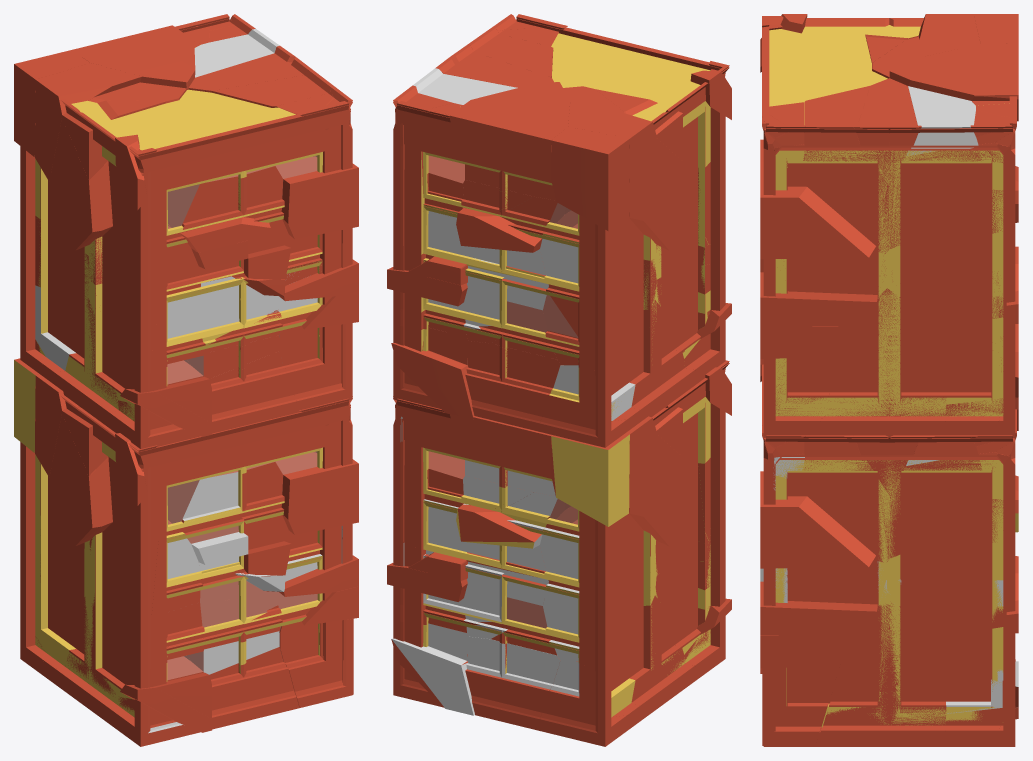
Rendered from SmallBuilding.fbx.
The picture shows the model from 3 angles, left to right: view 1: azimuth 30°, elevation 25°; view 2: azimuth 150°, elevation 25°; view 3: azimuth 270°, elevation 25°; orthographic projection. The views are drawn at different scales.
Parts seen in each view (by area): view 1: Cube, Cube_cell.378, Cube_cell.102, Cube_cell.015, Cube_cell.298, Cube_cell.351, Cube_cell.265, Cube_cell.370, Cube_cell.302, Cube_cell.262, Cube_cell.375, Cube_cell.224 (+56 smaller); view 2: Cube, Cube_cell.351, Cube_cell.325, Cube_cell.040, Cube_cell.321, Cube_cell.044, Cube_cell.018, Cube_cell.301, Cube_cell.117, Cube_cell.326, Cube_cell.004, Cube_cell.045 (+61 smaller); view 3: Cube, Cube_cell.243, Cube_cell.015, Cube_cell.298, Cube_cell.351, Cube_cell.102, Cube_cell.235, Cube_cell.356, Cube_cell.313, Cube_cell.172, Cube_cell.324, Cube_cell.139 (+30 smaller).
Part boxes in pixels (x1,y1,x2,y2): Cube: [20, 18, 352, 746]; Cube_cell.378: [49, 82, 186, 250]; Cube_cell.102: [279, 618, 353, 707]; Cube_cell.015: [275, 452, 358, 534]; Cube_cell.298: [276, 156, 358, 239]; Cube_cell.351: [72, 25, 195, 89]; Cube_cell.265: [49, 414, 112, 545]; Cube_cell.370: [35, 63, 141, 181]; Cube_cell.302: [279, 324, 345, 402]; Cube_cell.262: [184, 647, 296, 719]; Cube_cell.375: [184, 351, 296, 423]; Cube_cell.224: [166, 277, 244, 344]; Cube: [393, 18, 729, 746]; Cube_cell.351: [450, 82, 570, 180]; Cube_cell.325: [551, 127, 629, 231]; Cube_cell.040: [465, 636, 560, 728]; Cube_cell.321: [465, 340, 560, 430]; Cube_cell.044: [551, 433, 629, 526]; Cube_cell.018: [423, 499, 577, 566]; Cube_cell.301: [423, 203, 577, 270]; Cube_cell.117: [537, 333, 640, 430]; Cube_cell.326: [543, 259, 656, 371]; Cube_cell.004: [537, 640, 640, 726]; Cube_cell.045: [543, 554, 656, 666]; Cube: [762, 18, 1016, 746]; Cube_cell.243: [818, 603, 946, 743]; Cube_cell.015: [760, 471, 875, 568]; Cube_cell.298: [760, 162, 875, 259]; Cube_cell.351: [889, 43, 1018, 121]; Cube_cell.102: [762, 664, 840, 745]; Cube_cell.235: [889, 460, 981, 557]; Cube_cell.356: [817, 288, 946, 435]; Cube_cell.313: [853, 78, 921, 186]; Cube_cell.172: [760, 581, 877, 635]; Cube_cell.324: [760, 272, 877, 326]; Cube_cell.139: [906, 86, 978, 155].
Bounding box in the file's own units: 871 × 2237 × 842.
